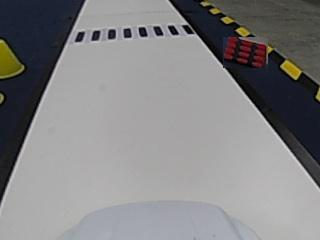crosswalk: (73, 24, 193, 42)
